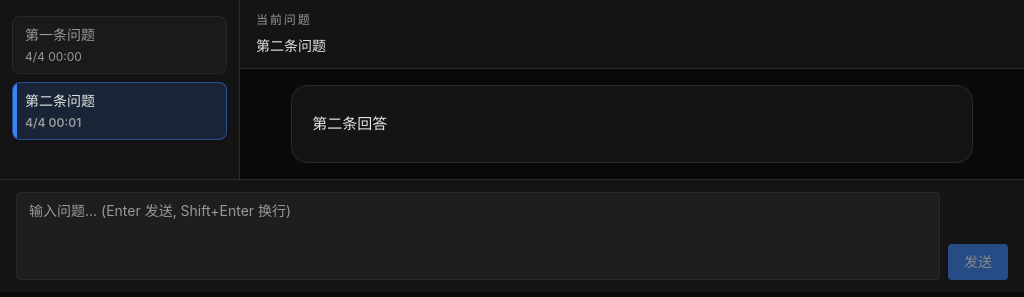
QAView focused state › shows only the focused answer and lets history buttons switch the reader pane
The image size is (1024, 297).
Expected: the button "第二条问题 4/4 00:01" is shown, [12,82,227,140]
Expected: the text "第一条回答" is not shown
Click the button "第一条问题 4/4 00:00".
click(120, 45)  # box [12,16,227,74]
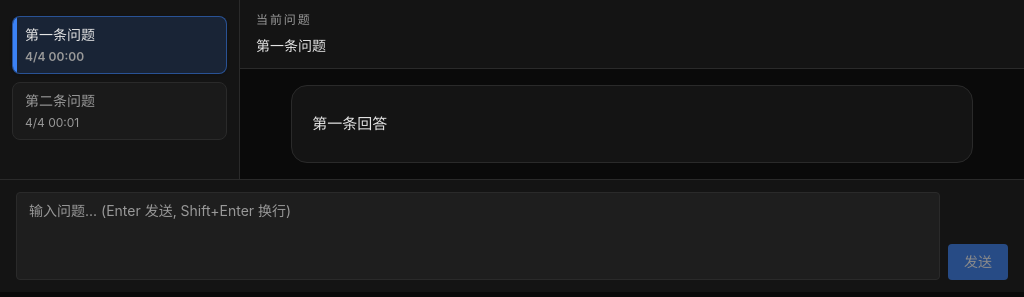
Now the text "第一条回答" is shown, box [312,114,387,133]
Now the text "第二条回答" is gone
